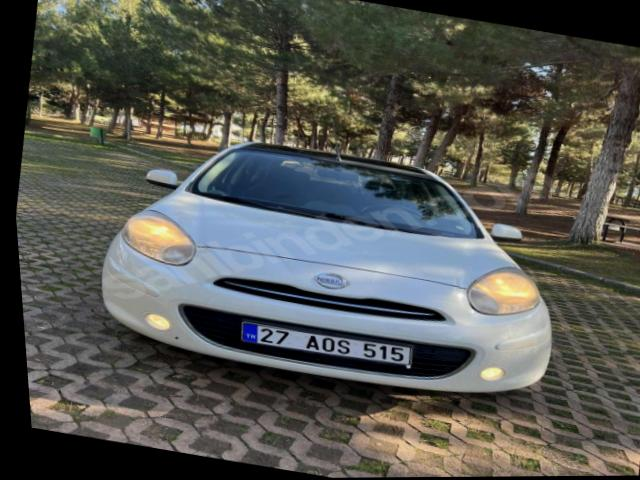plaka: (240, 321, 411, 367)
